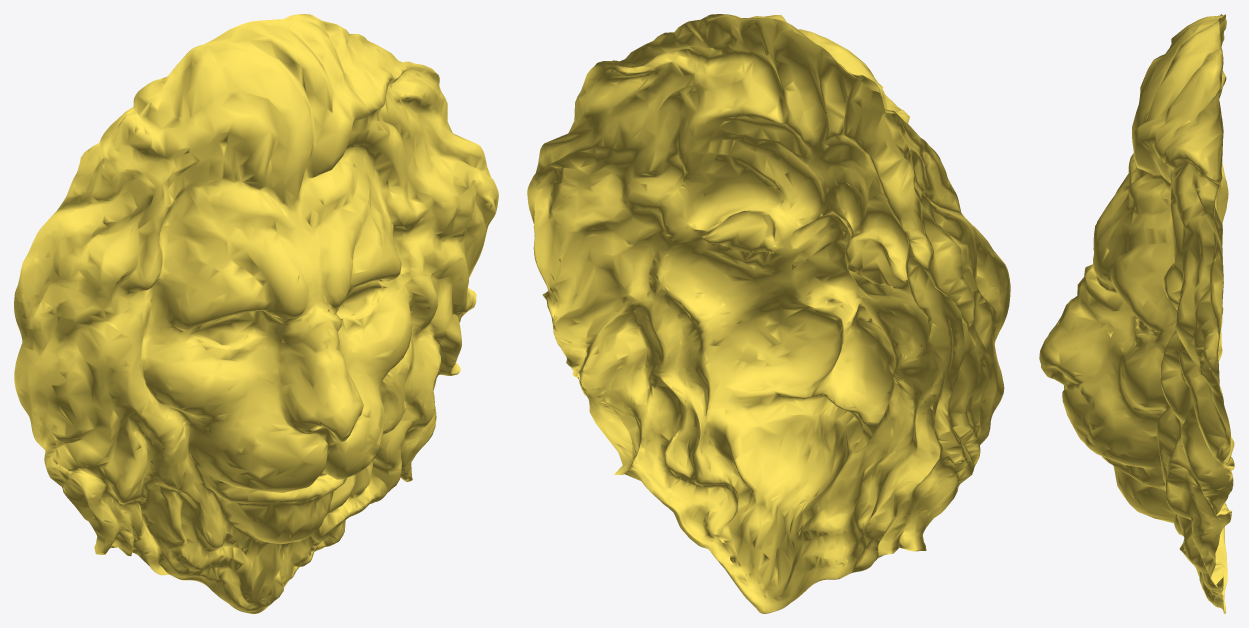
Rendered from card-111.glb.
3 views of the same model, side by side, from view 1: azimuth 30°, elevation 25°; view 2: azimuth 150°, elevation 25°; view 3: azimuth 270°, elevation 25° (orthographic). The views are drawn at different scales.
Visible parts, largest first — view 1: geometry_0; view 2: geometry_0; view 3: geometry_0.
Part boxes in pixels (x1,y1,x2,y2): geometry_0: (14, 14, 498, 613); geometry_0: (527, 14, 1010, 613); geometry_0: (1039, 14, 1234, 613).
Bounding box in the file's own units: 0.2975 × 0.35 × 0.1063.
